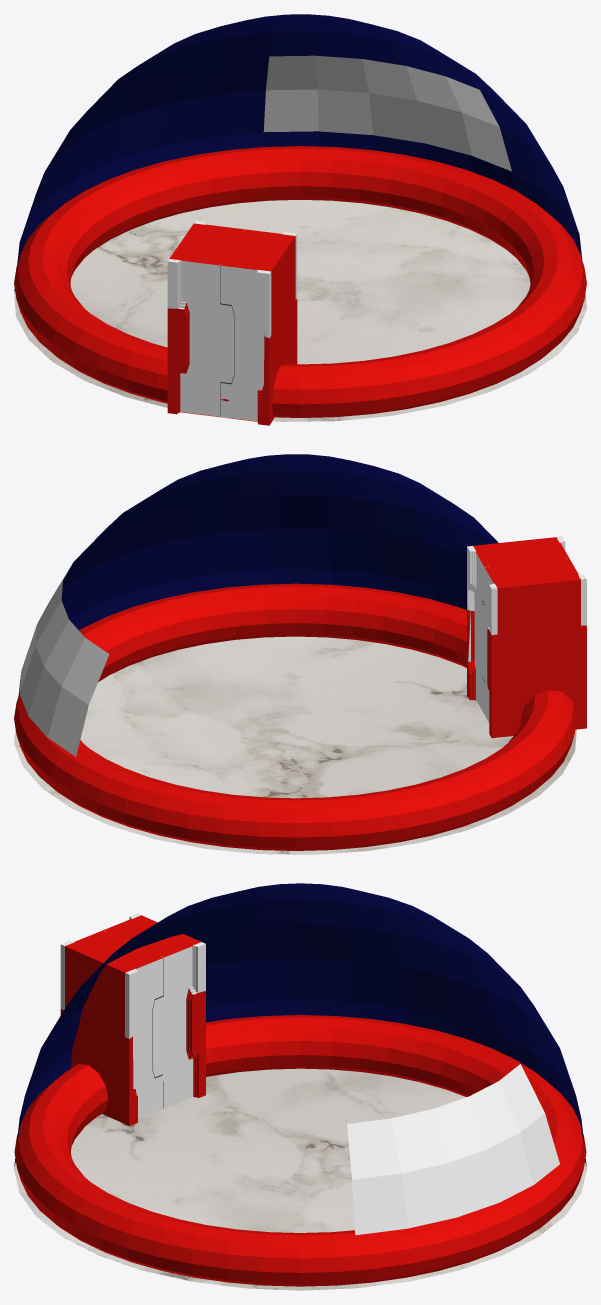
The model's file is interior_nave.fbx.
The picture shows the model from 3 angles, top to bottom: view 1: azimuth 30°, elevation 25°; view 2: azimuth 150°, elevation 25°; view 3: azimuth 270°, elevation 25°; orthographic projection.
Visible parts, largest first — view 1: Torus.001, Chao, Parede, Porta, Vidro; view 2: Chao, Torus.001, Parede, Porta, Vidro; view 3: Torus.001, Parede, Chao, Vidro, Porta.
Boxes of the visible parts, x1=… form: Torus.001: x1=14, y1=146, x2=586, y2=417; Chao: x1=14, y1=200, x2=586, y2=421; Parede: x1=14, y1=14, x2=582, y2=291; Porta: x1=167, y1=221, x2=297, y2=425; Vidro: x1=263, y1=55, x2=511, y2=171; Chao: x1=14, y1=636, x2=576, y2=854; Torus.001: x1=14, y1=583, x2=576, y2=850; Parede: x1=18, y1=454, x2=498, y2=694; Porta: x1=467, y1=536, x2=586, y2=738; Vidro: x1=19, y1=566, x2=109, y2=756; Torus.001: x1=14, y1=1015, x2=586, y2=1286; Parede: x1=14, y1=883, x2=586, y2=1168; Chao: x1=14, y1=1068, x2=586, y2=1290; Vidro: x1=347, y1=1064, x2=559, y2=1235; Porta: x1=60, y1=913, x2=205, y2=1126.
Size of the model in its own units: 200 by 103 by 200.
6 materials, 1 textured.
